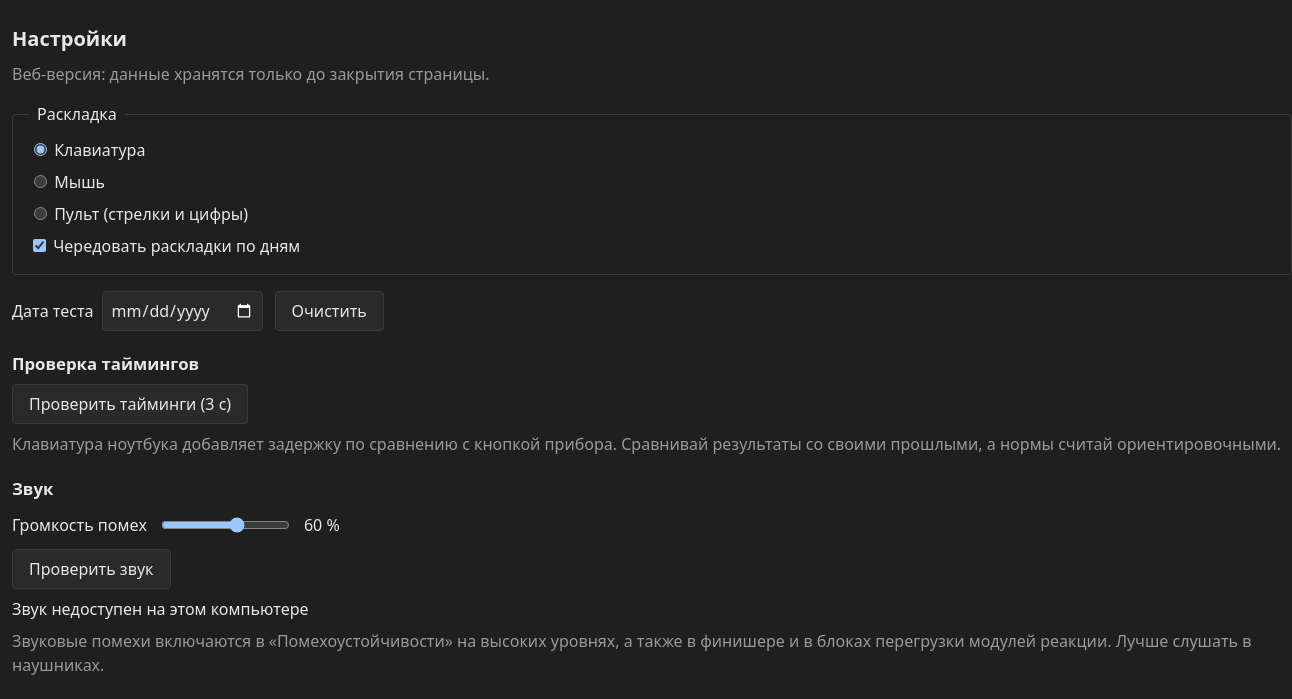
Settings layout and date › «Чередовать раскладки по дням» is on by default and saves layoutRotation (F9)
Later steps or results of the test are not shown.
Click the checkbox labelled "Чередовать раскладки по дням". click: (40,246)
box: [33,239,46,252]
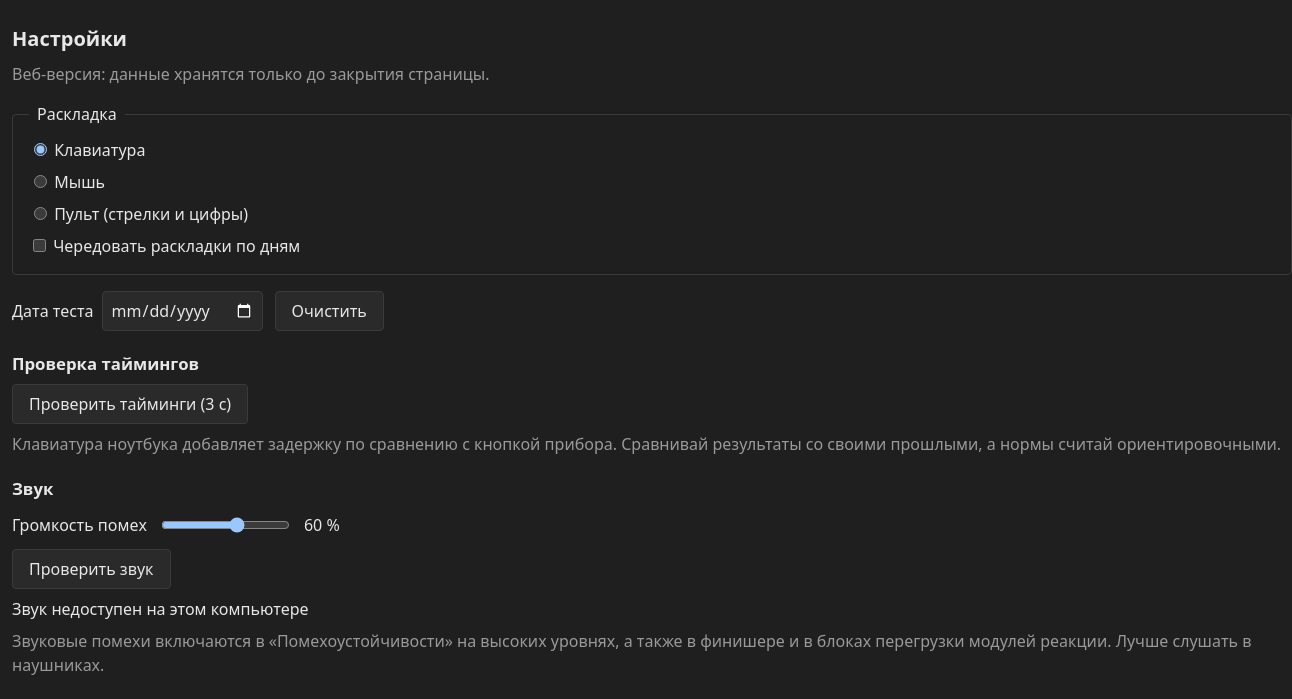
Expected: the checkbox labelled "Чередовать раскладки по дням" is not checked, [33,239,46,252]
